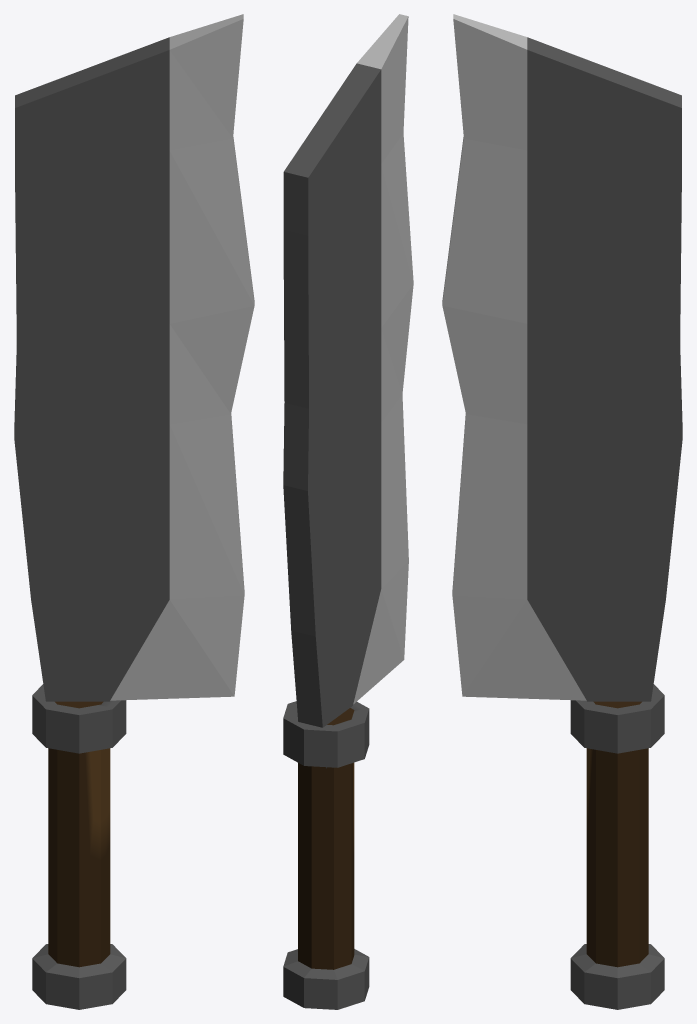
File: cleaver_orc.glb
The picture shows the model from 3 angles, left to right: view 1: azimuth 90°, elevation 25°; view 2: azimuth 150°, elevation 25°; view 3: azimuth 270°, elevation 25°; orthographic projection. The views are drawn at different scales.
Parts seen in each view (by area): view 1: Blade, Handle; view 2: Blade, Handle; view 3: Blade, Handle.
Boxes of the visible parts, bbox=[...] form: Blade: bbox=[14, 14, 254, 701]; Handle: bbox=[32, 684, 126, 1009]; Blade: bbox=[283, 14, 413, 768]; Handle: bbox=[283, 701, 369, 1009]; Blade: bbox=[442, 14, 682, 701]; Handle: bbox=[570, 684, 664, 1009].
Bounding box in the file's own units: 0.0914 × 1.05 × 0.2331.
1 material, 1 textured.
